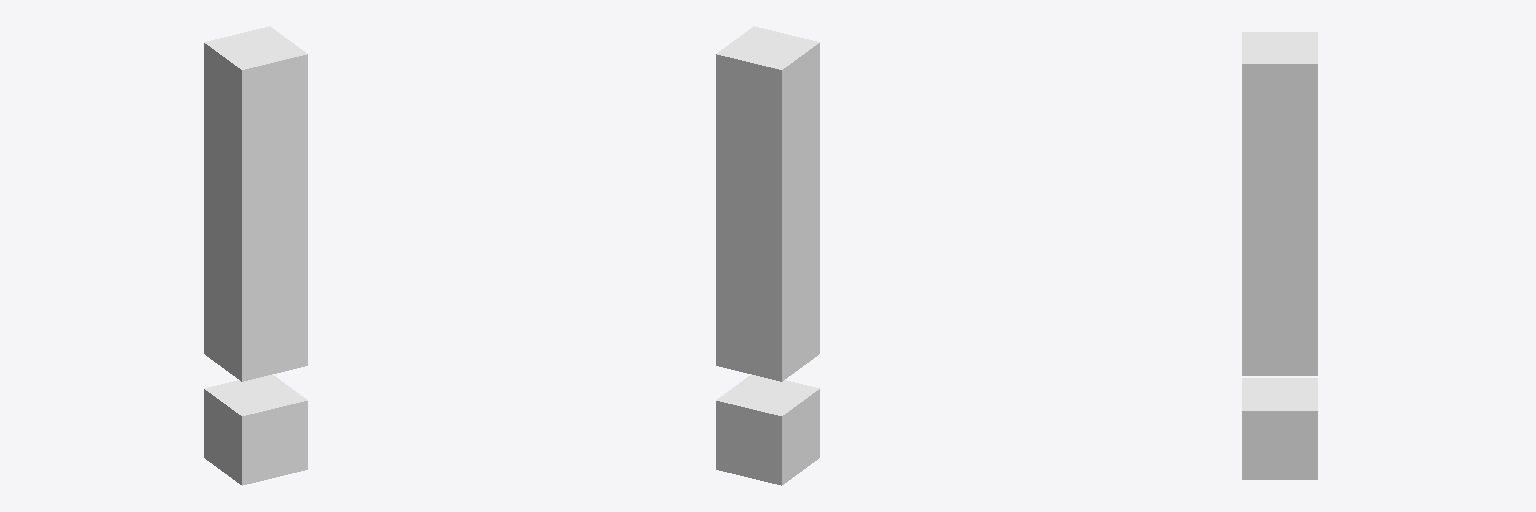
The model's file is exclamation.obj.
3 views of the same model, side by side, from view 1: azimuth 30°, elevation 25°; view 2: azimuth 150°, elevation 25°; view 3: azimuth 270°, elevation 25° (orthographic).
Parts seen in each view (by area): view 1: exclamation; view 2: exclamation; view 3: exclamation.
Part boxes in pixels (x1,y1,x2,y2): exclamation: (204, 26, 307, 485); exclamation: (716, 26, 819, 485); exclamation: (1242, 32, 1317, 479).
Bounding box in the file's own units: 0.2 × 1.2 × 0.2.